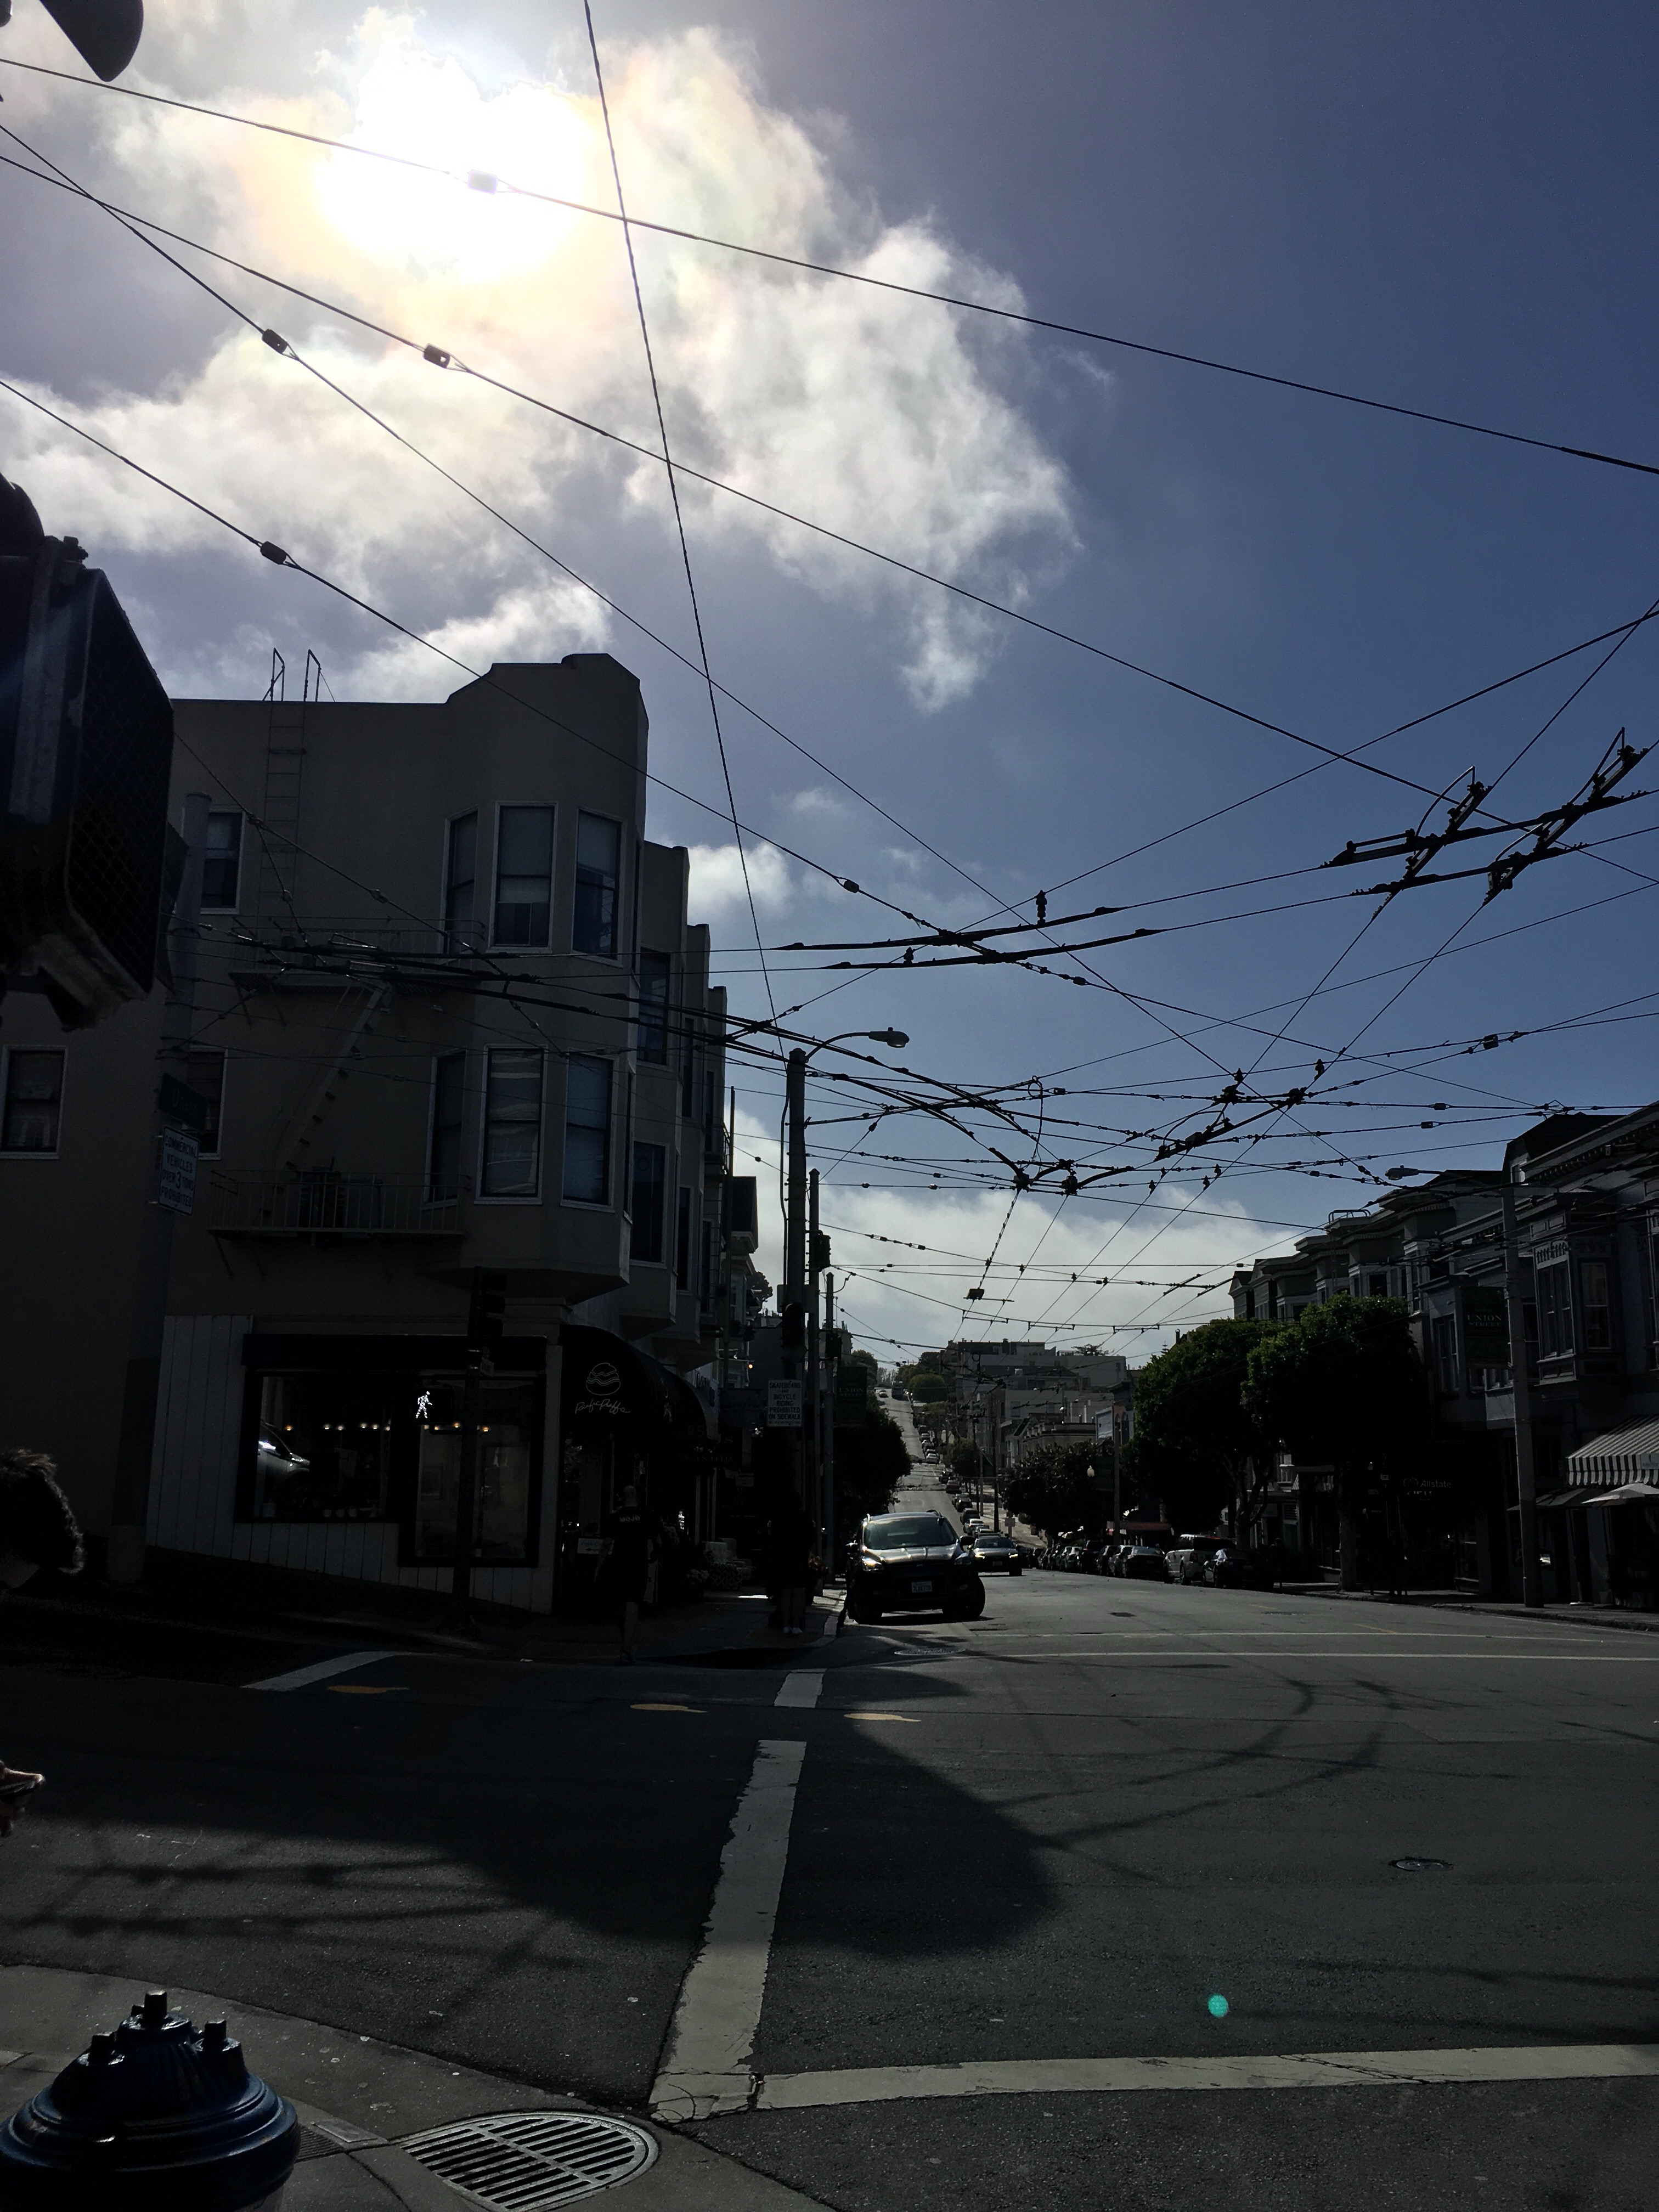flare: (1204, 1991, 1230, 2020)
